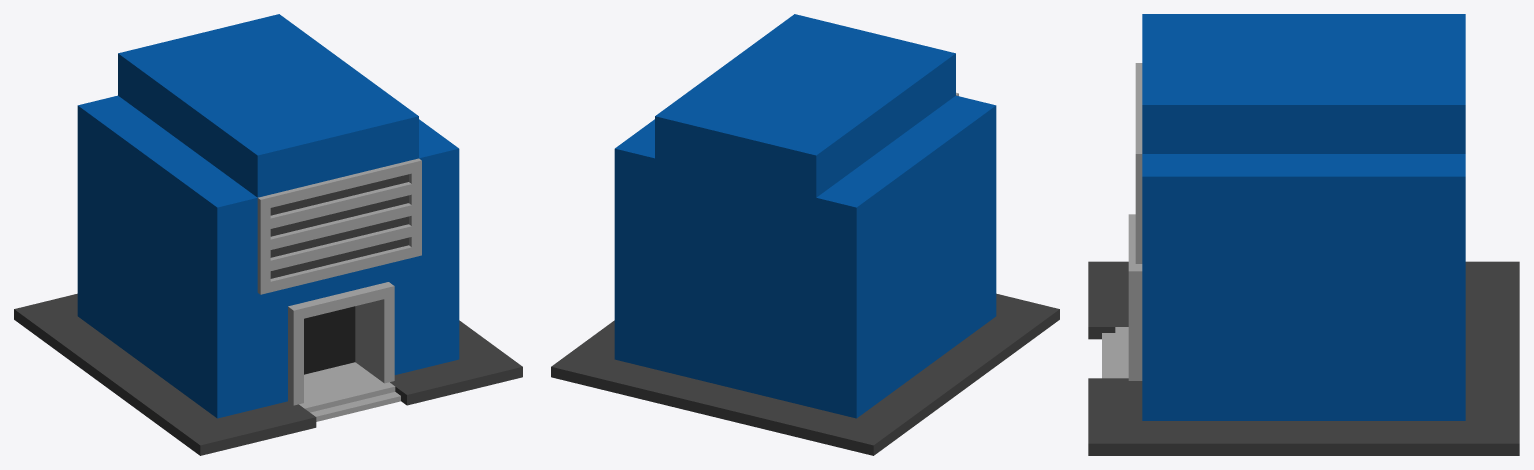
Rendered from Blue-5.obj.
3 renders of one model, left to right at view 1: azimuth 30°, elevation 25°; view 2: azimuth 150°, elevation 25°; view 3: azimuth 270°, elevation 25°, orthographic. The views are drawn at different scales.
Parts seen in each view (by area): view 1: Blue-5; view 2: Blue-5; view 3: Blue-5.
Part boxes in pixels (x1,y1,x2,y2): Blue-5: (14,14,522,455); Blue-5: (551,14,1059,455); Blue-5: (1088,14,1519,455).
Bounding box in the file's own units: 64 × 50 × 64.
1 material, 1 textured.
